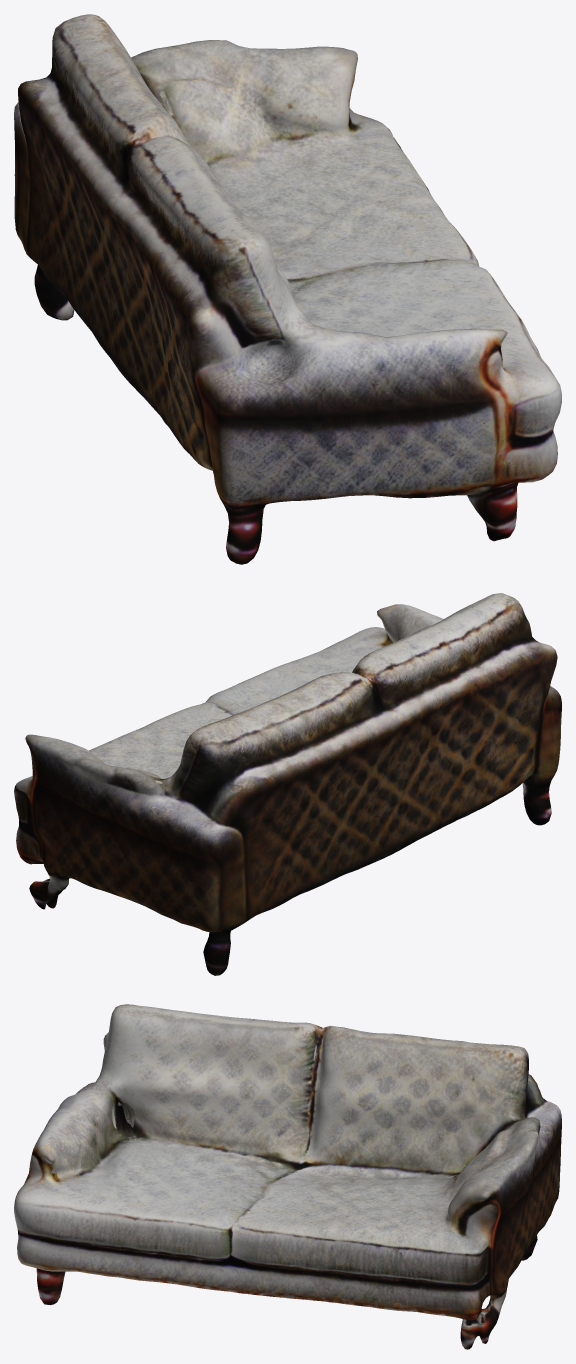
File: 3e6f515f3f72_sofa_in_poor_condit.fbx
The picture shows the model from 3 angles, top to bottom: view 1: azimuth 30°, elevation 25°; view 2: azimuth 150°, elevation 25°; view 3: azimuth 270°, elevation 25°; orthographic projection. The views are drawn at different scales.
Parts seen in each view (by area): view 1: mesh; view 2: mesh; view 3: mesh.
Boxes of the visible parts, bbox=[...] form: mesh: bbox=[14, 14, 561, 564]; mesh: bbox=[14, 593, 561, 975]; mesh: bbox=[14, 1004, 561, 1349].
Bounding box in the file's own units: 67.51 × 45.39 × 99.94.
